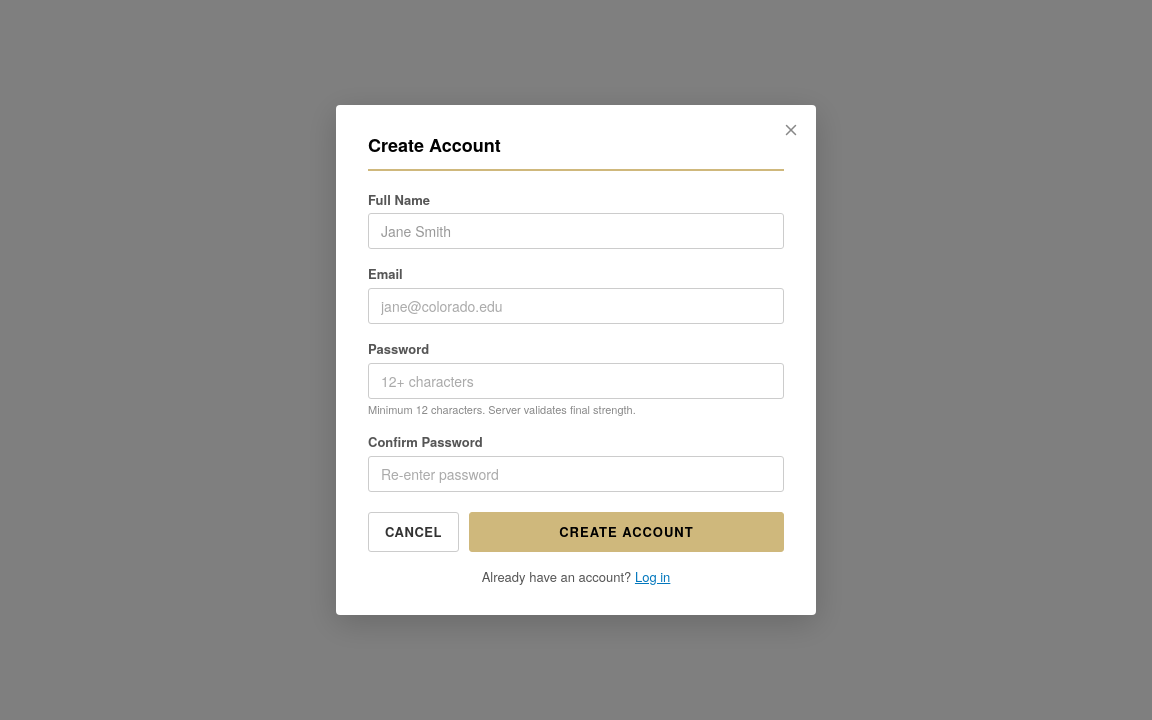
RegisterModal › shows server error as plain text (never innerHTML) when registration fails
Type "Alice" into the field named "name" at [576, 231], box [368, 213, 784, 249]
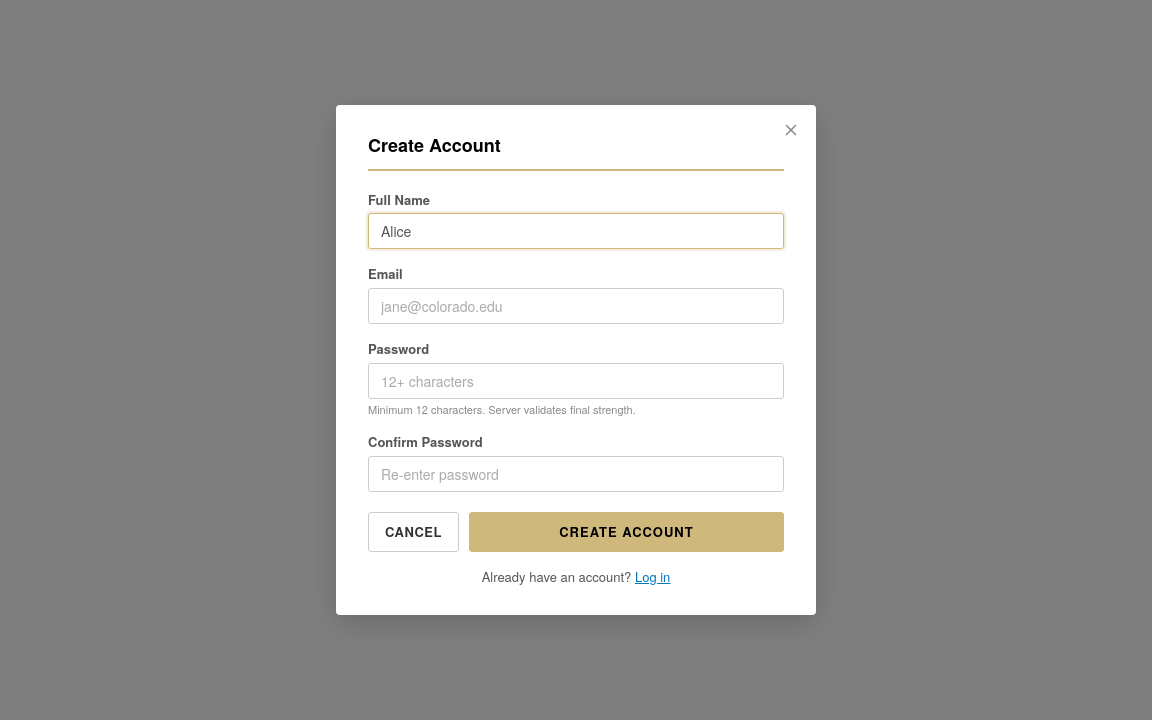
Type "a@b.com" into the field labelled "Email" at [576, 306], box [368, 288, 784, 324]
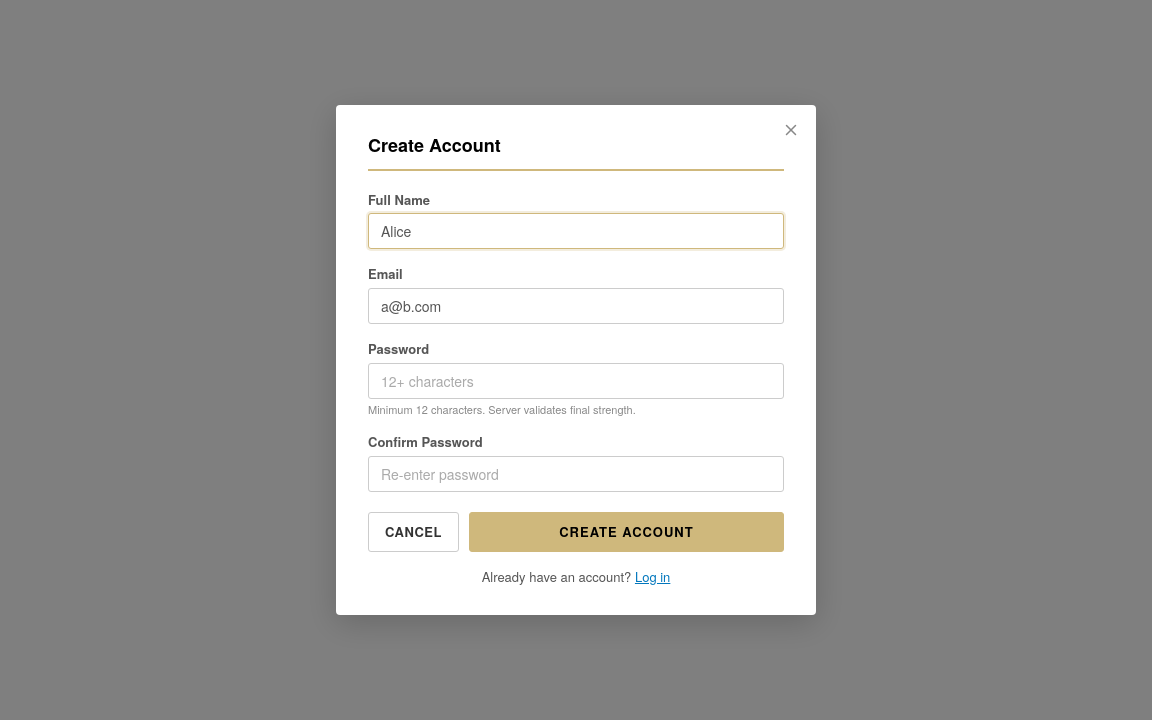
Type "a-valid-pw-123" into the password field with id "reg-password" at [576, 380], box [368, 362, 784, 398]
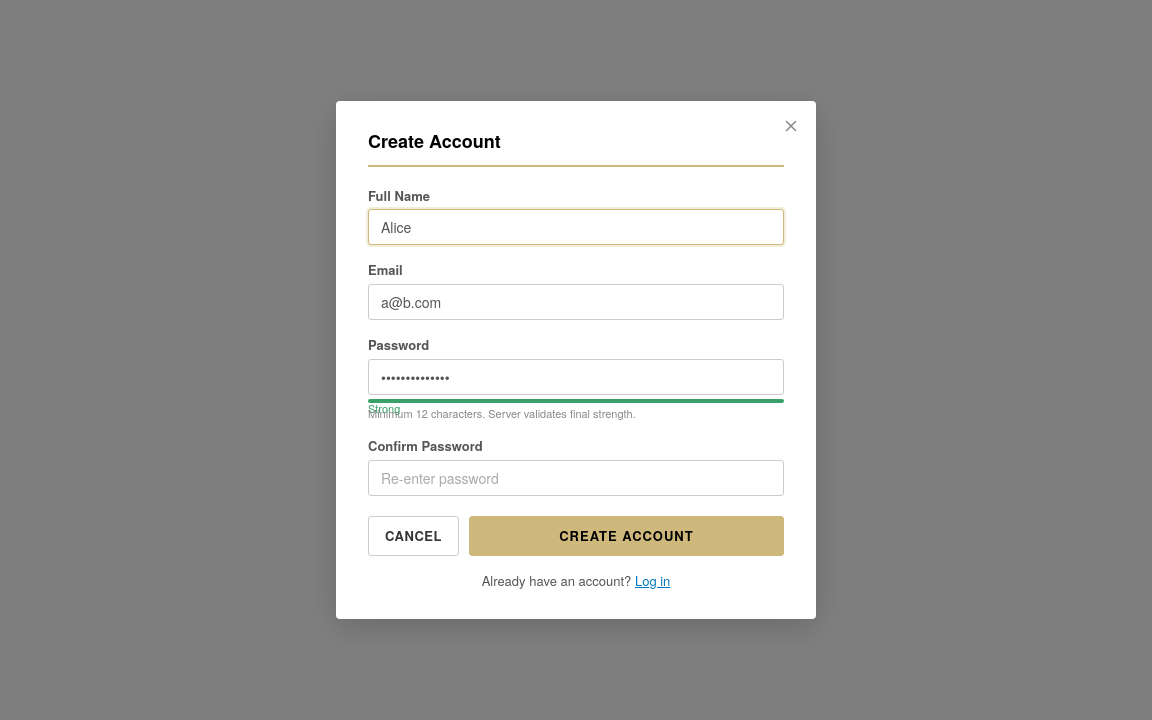
Type "a-valid-pw-123" into the password field with id "reg-confirm-password" at [576, 478], box [368, 460, 784, 496]
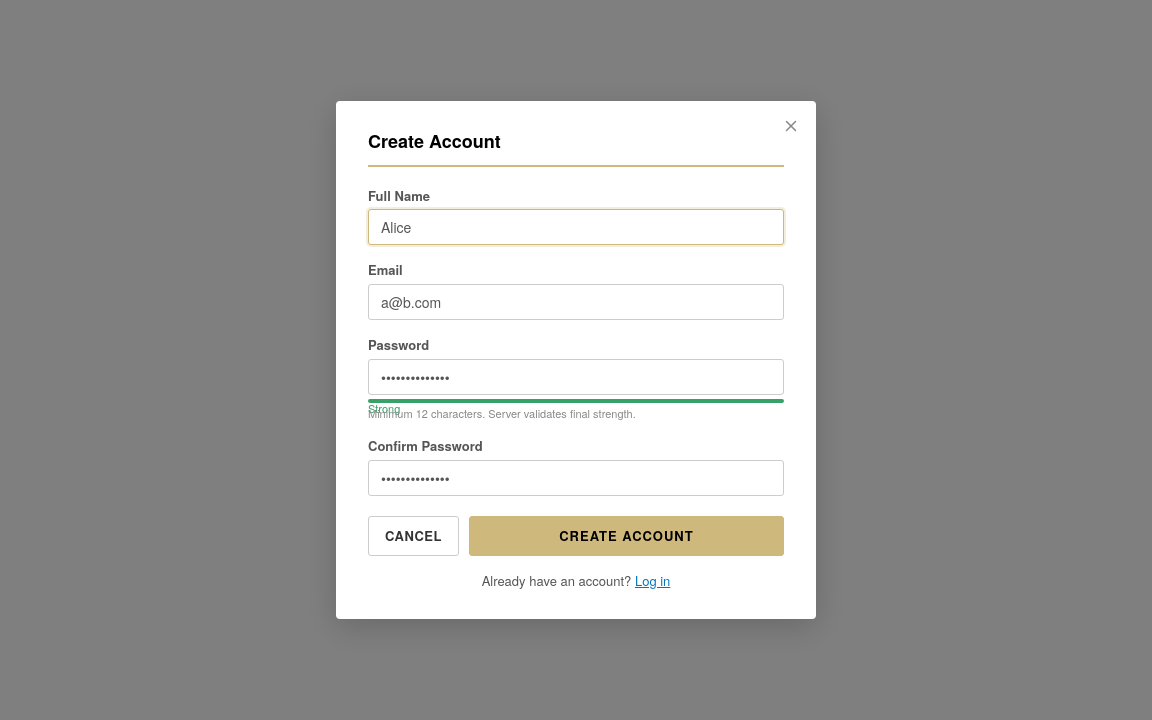
Submit the form, box [368, 187, 784, 556]
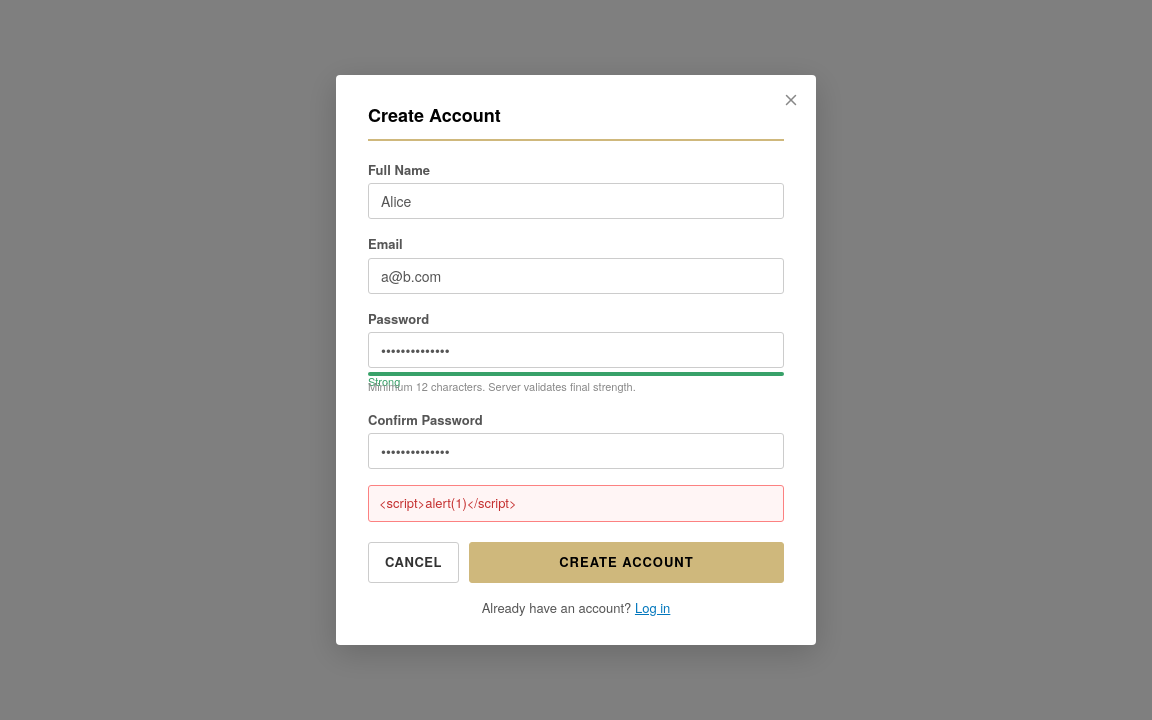
Expected: the text "<script>alert(1)</script>" is shown, [368, 486, 784, 522]
